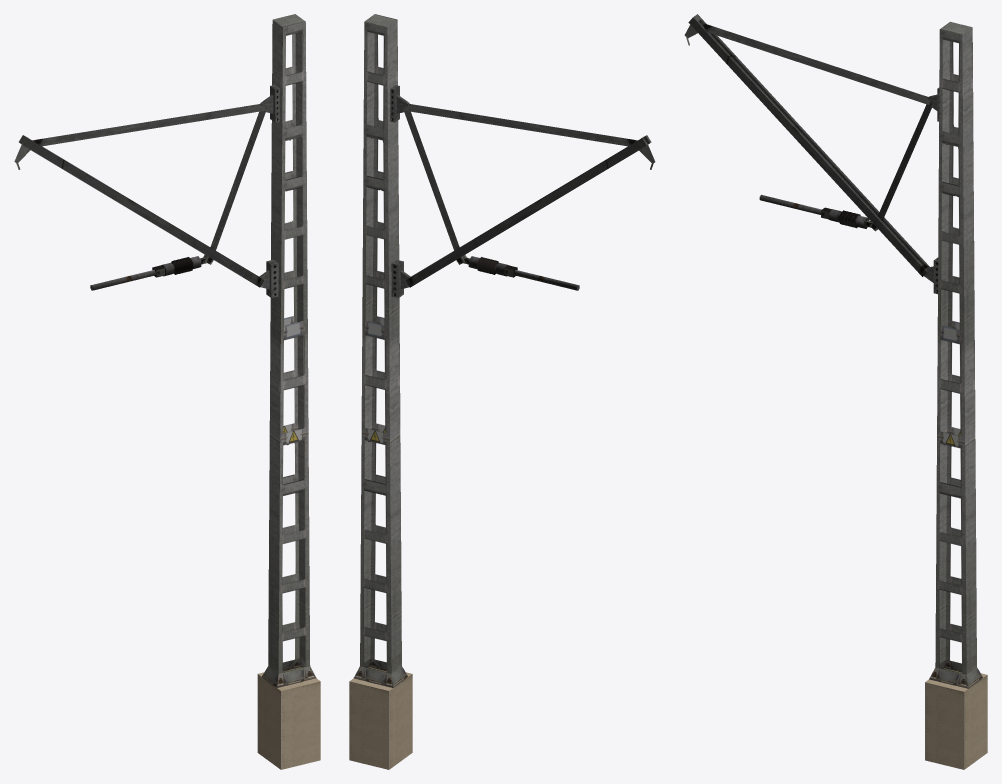
File: KZDM_opk1r.gltf
3 views of the same model, side by side, from view 1: azimuth 30°, elevation 25°; view 2: azimuth 150°, elevation 25°; view 3: azimuth 330°, elevation 25° (orthographic).
Bounding box in the file's own units: 4.34 × 10.36 × 0.6.
1 material, 1 textured.
